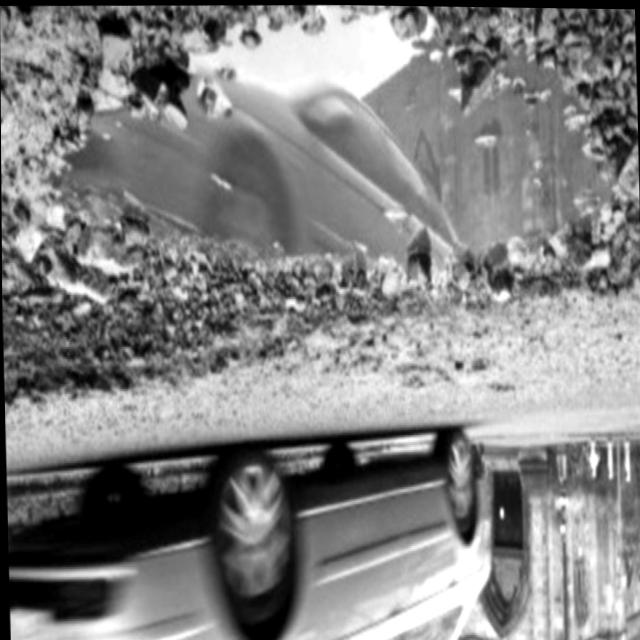pathole: (0, 5, 640, 290), (1, 189, 368, 414)
